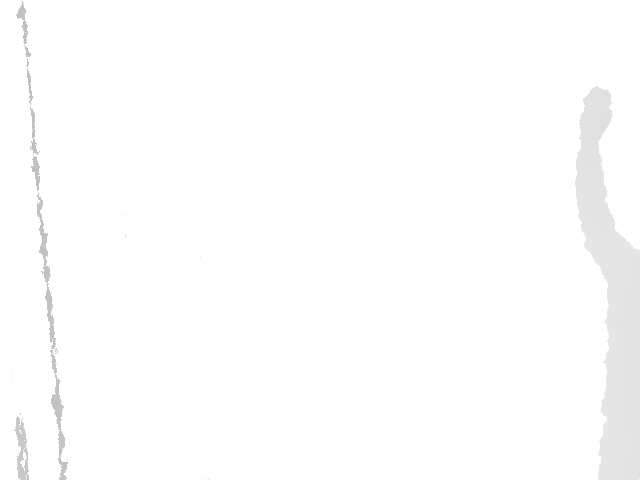hand: (578, 86, 613, 152)
person: (575, 85, 640, 480)
